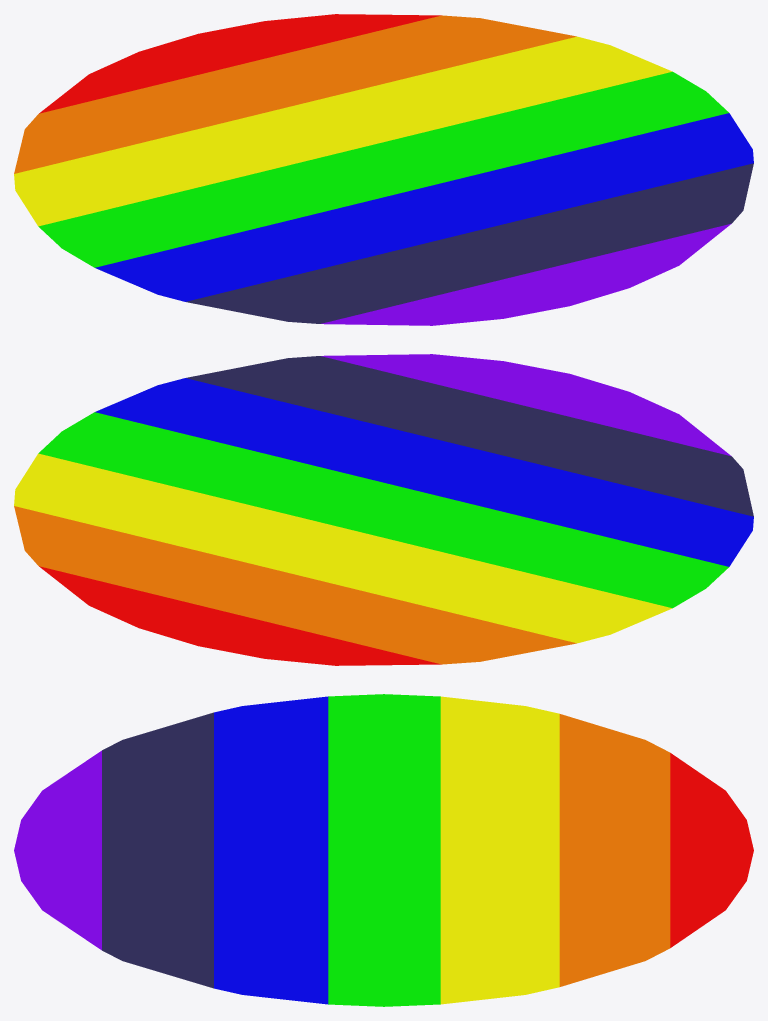
File: Start.fbx
3 views of the same model, one above another, from view 1: azimuth 30°, elevation 25°; view 2: azimuth 150°, elevation 25°; view 3: azimuth 270°, elevation 25° (orthographic).
Visible parts, largest first — view 1: Start; view 2: Start; view 3: Start.
Part boxes in pixels (<box>): Start: <box>14,14,753,325</box>; Start: <box>14,354,753,665</box>; Start: <box>14,694,753,1006</box>.
Size of the model in its own units: 600 by 9.78e-05 by 600.
